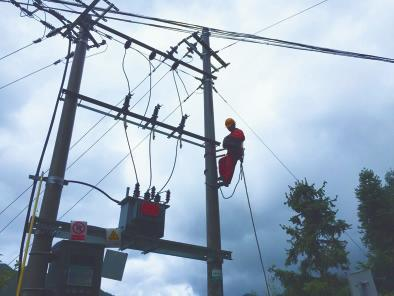helmet: (223, 115, 237, 133)
